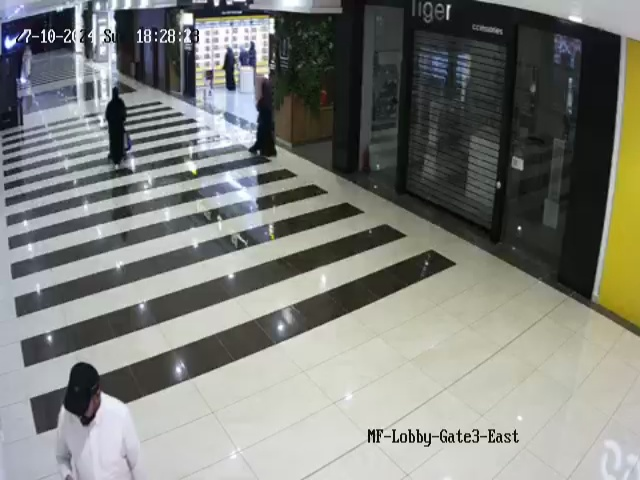female: (249, 69, 278, 157), (104, 87, 128, 166), (221, 45, 237, 91), (243, 38, 261, 72)
male: (55, 362, 147, 480)
